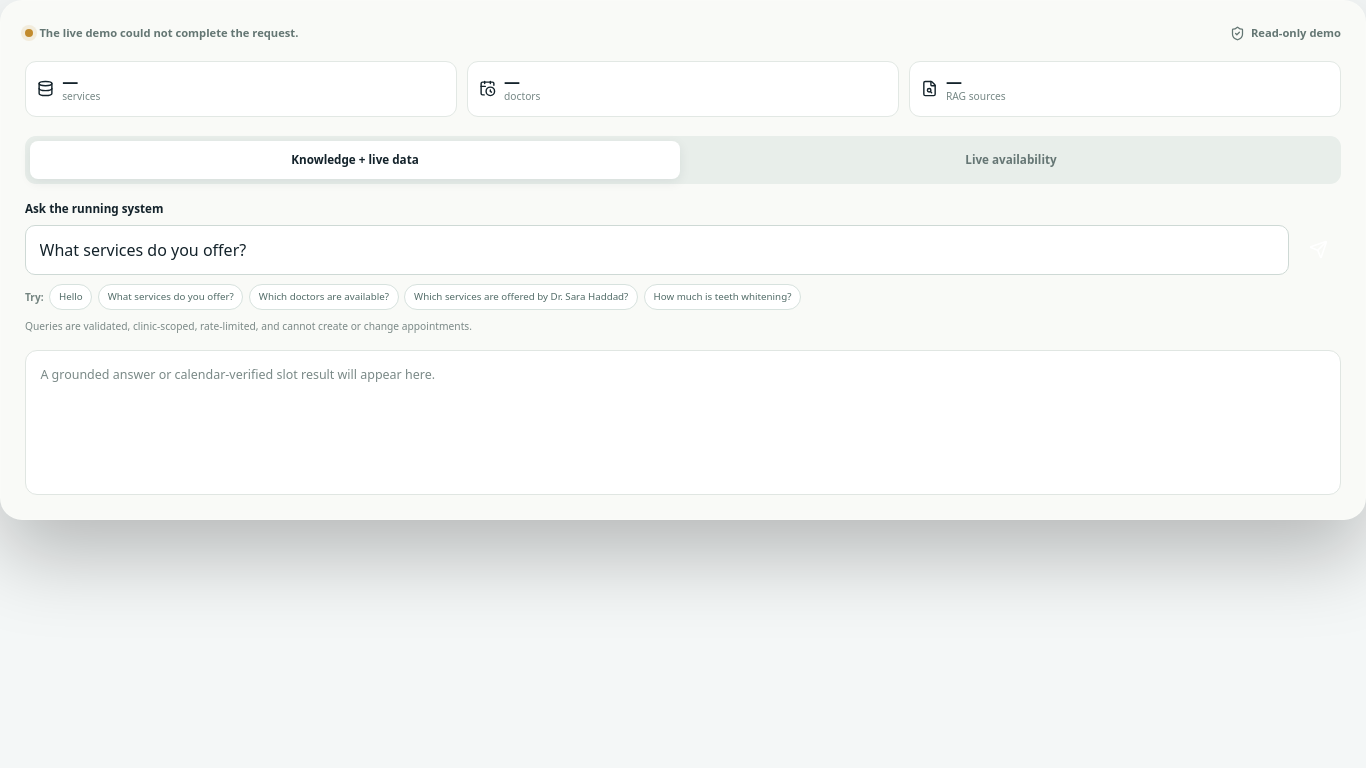
RecruiterDemo › offers recruiter-friendly questions from different data paths
Click the button "Which doctors are available?" at (324, 297), box [249,284,399,310]
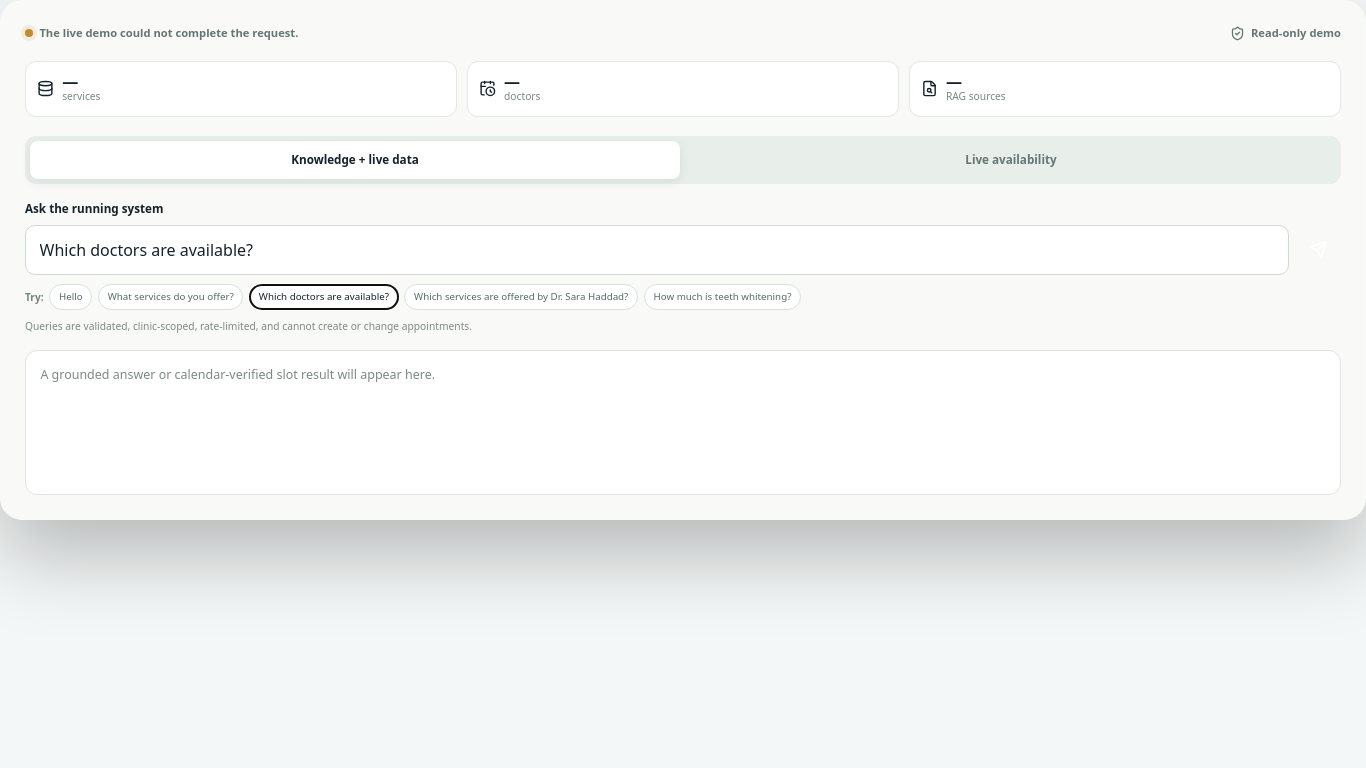
Expected: the button "Which services are offered by Dr. Sara Haddad?" is shown, [404,284,638,310]
Now the field labelled "Ask the running system" holds "Which doctors are available?", box [25,224,1289,274]
